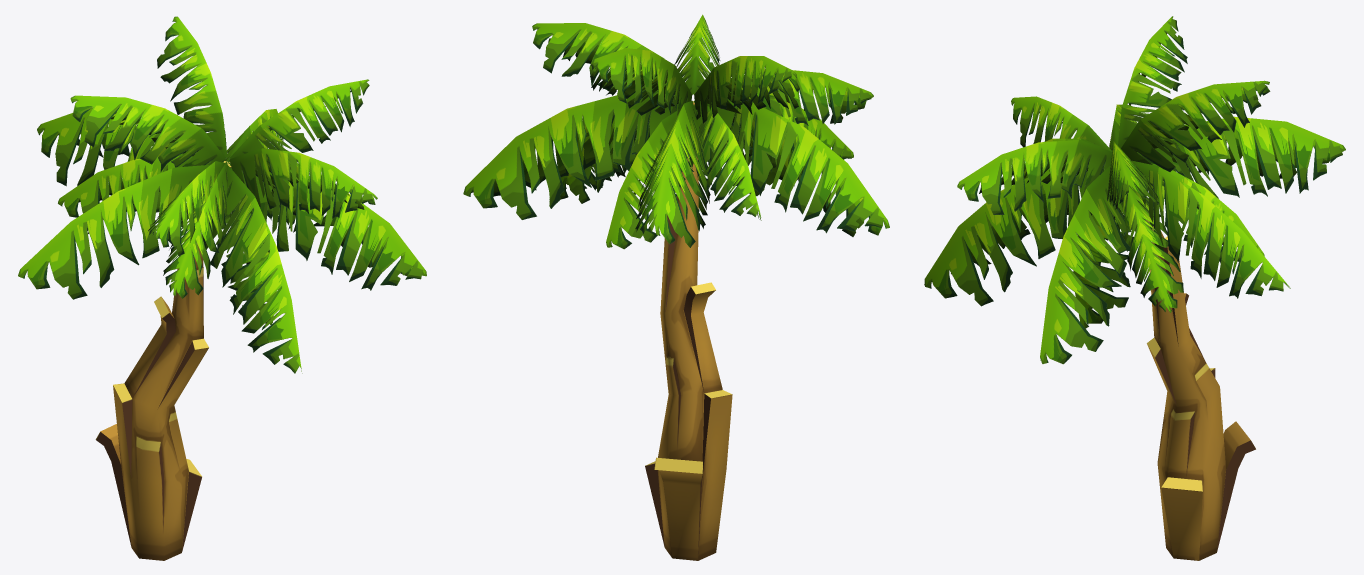
File: F_W_O_tree_004.fbx
The picture shows the model from 3 angles, left to right: view 1: azimuth 30°, elevation 25°; view 2: azimuth 150°, elevation 25°; view 3: azimuth 270°, elevation 25°; orthographic projection. The views are drawn at different scales.
Parts seen in each view (by area): view 1: F_W_O_tree_004; view 2: F_W_O_tree_004; view 3: F_W_O_tree_004.
Part boxes in pixels (x1,y1,x2,y2): F_W_O_tree_004: (18,16,426,560); F_W_O_tree_004: (463,14,889,560); F_W_O_tree_004: (924,16,1345,560).
Bounding box in the file's own units: 10.14 × 12.97 × 10.11.
